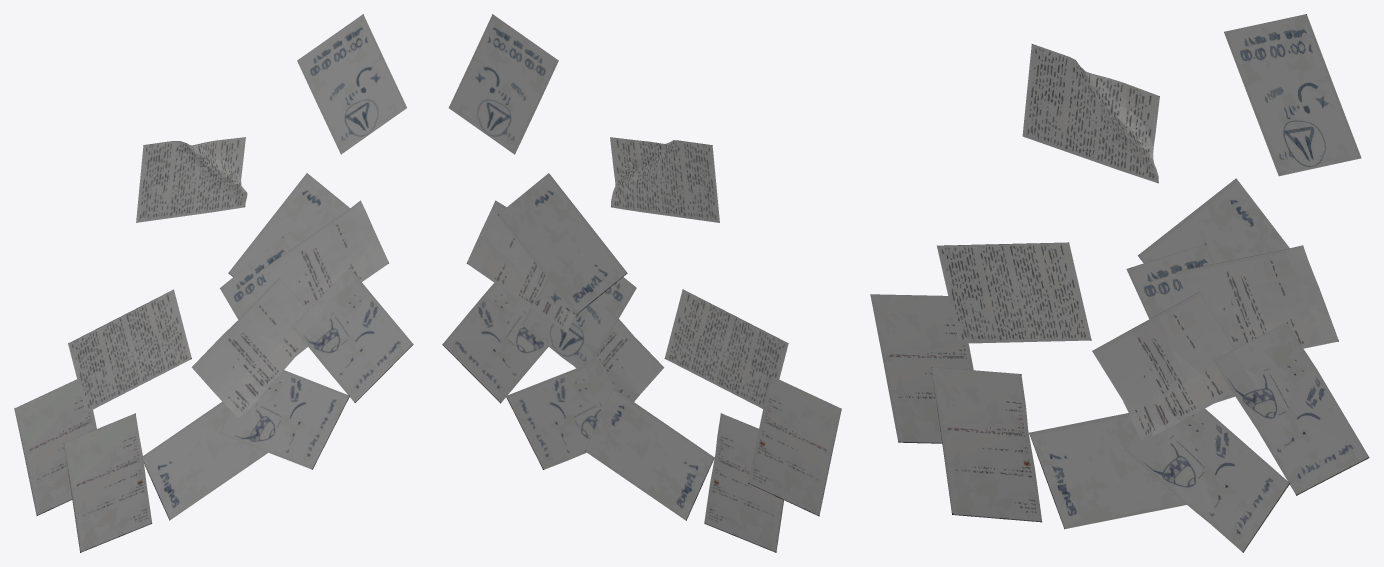
The model's file is impostors_paper.glb.
The picture shows the model from 3 angles, left to right: view 1: azimuth 30°, elevation 25°; view 2: azimuth 150°, elevation 25°; view 3: azimuth 330°, elevation 25°; orthographic projection. The views are drawn at different scales.
Visible parts, largest first — view 1: SM_Mole_ScatteredPapers_A.mo; view 2: SM_Mole_ScatteredPapers_A.mo; view 3: SM_Mole_ScatteredPapers_A.mo.
Boxes of the visible parts, box(x1,y1,x2,y2) form: SM_Mole_ScatteredPapers_A.mo: box(14, 14, 413, 552); SM_Mole_ScatteredPapers_A.mo: box(442, 14, 841, 552); SM_Mole_ScatteredPapers_A.mo: box(870, 14, 1369, 552).
Bounding box in the file's own units: 1.74 × 1.96 × 0.0355.
Materials: 1 (1 with a texture image).
